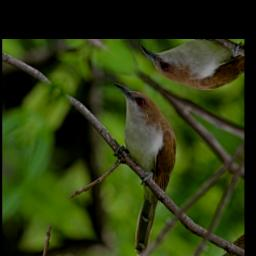Cuckoo: (42, 74, 218, 256)
